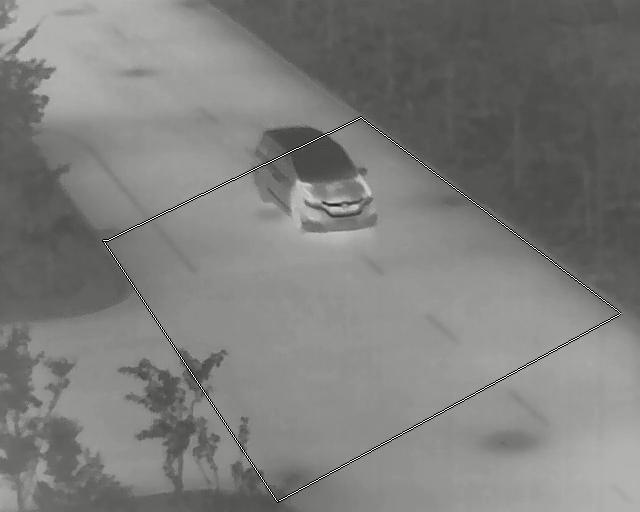vehicle: (251, 127, 379, 233)
